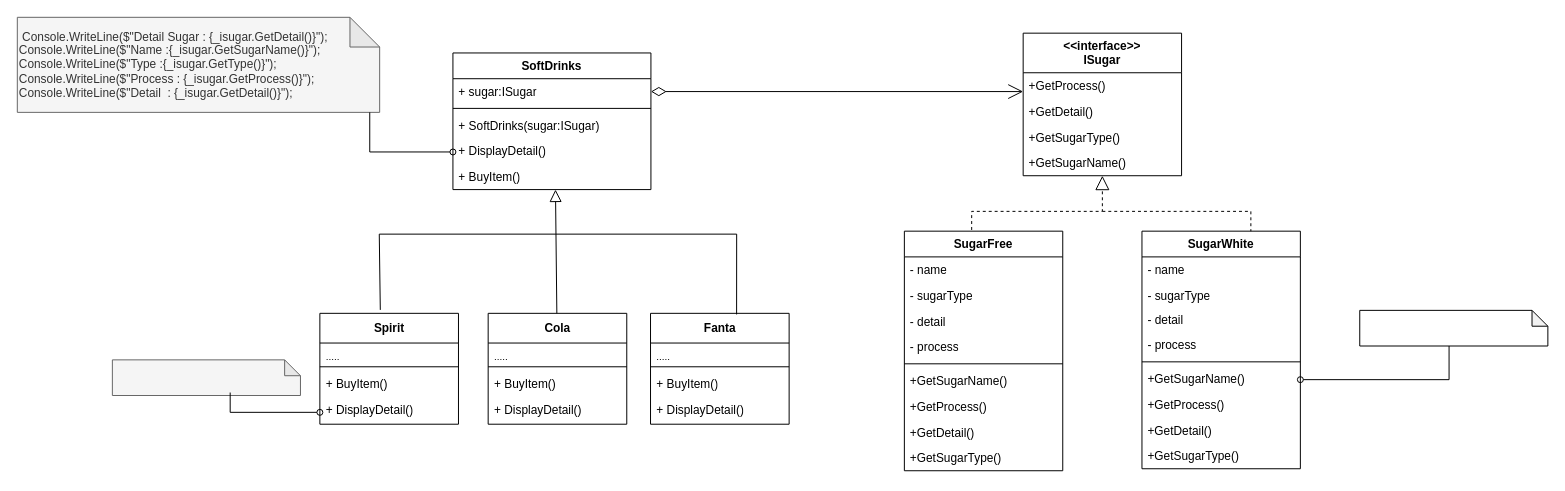
Some shapes in this 1565 by 491 pixel diagram are drawn without their labels. The centre of each missing label's shape, as x and y in pixels:
"base.DisplayDetail();" belongs at point 205,377.
"return name" belongs at point 1453,327.
